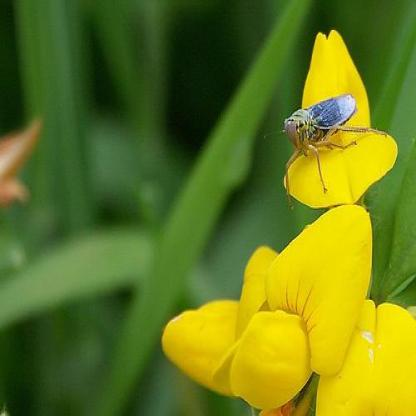Green-Leafhopper: (274, 90, 392, 192)
